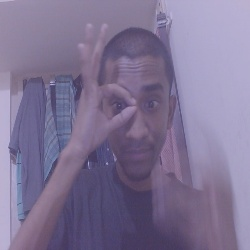hand: (64, 21, 137, 153)
